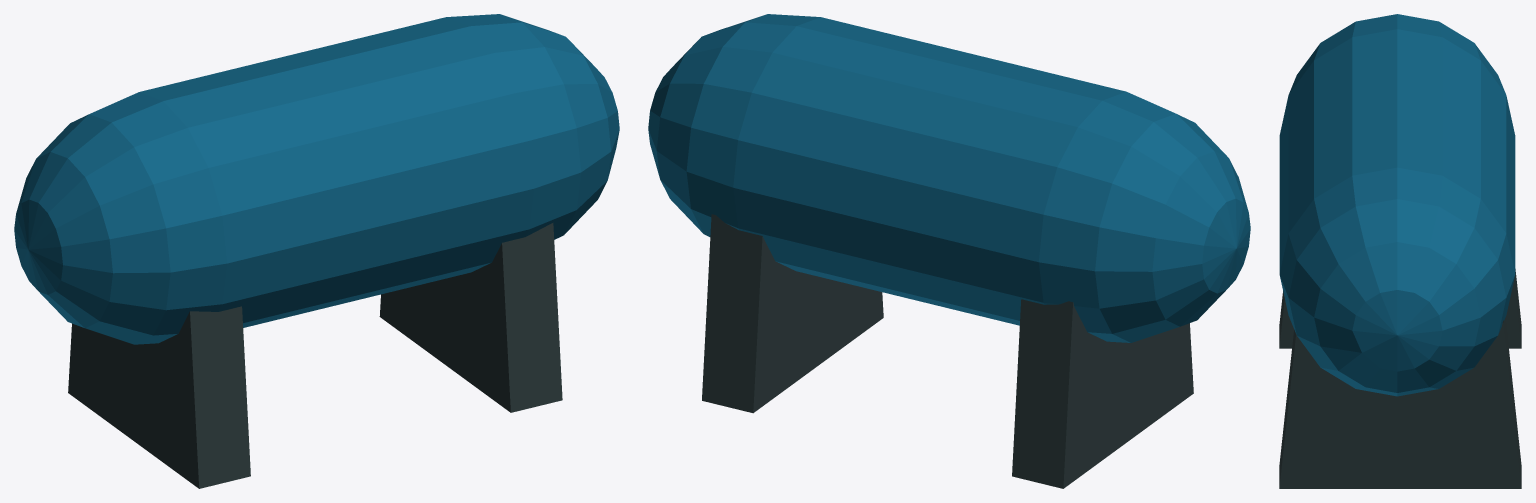
Rendered from SM_Factory_Horizontal_tank_02.glb.
3 renders of one model, left to right at view 1: azimuth 30°, elevation 25°; view 2: azimuth 150°, elevation 25°; view 3: azimuth 270°, elevation 25°, orthographic. The views are drawn at different scales.
Visible parts, largest first — view 1: SM_Factory_Horizontal_tank_02; view 2: SM_Factory_Horizontal_tank_02; view 3: SM_Factory_Horizontal_tank_02.
Boxes of the visible parts, x1=… form: SM_Factory_Horizontal_tank_02: x1=14, y1=14, x2=619, y2=488; SM_Factory_Horizontal_tank_02: x1=648, y1=14, x2=1250, y2=488; SM_Factory_Horizontal_tank_02: x1=1279, y1=14, x2=1521, y2=488.
Bounding box in the file's own units: 4.27 × 2.36 × 1.68.
Materials: 1 (1 with a texture image).
